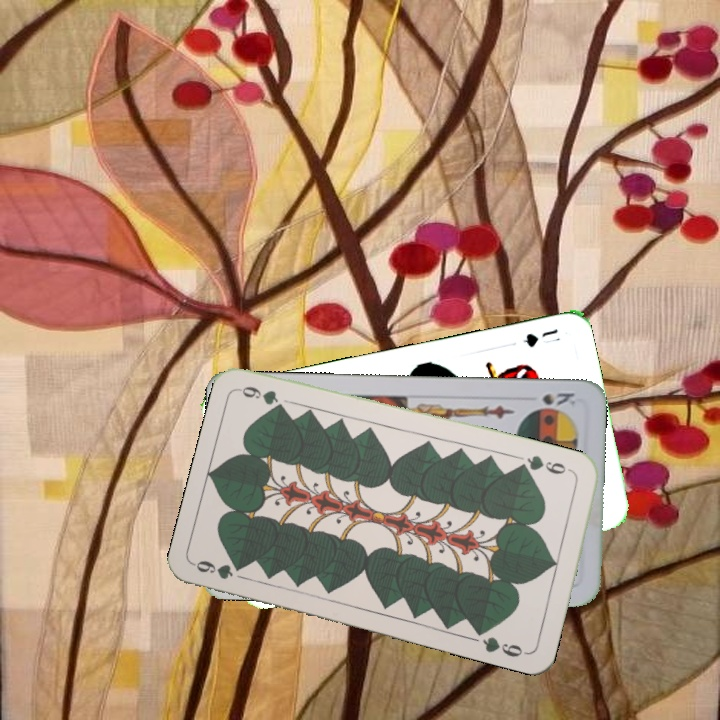G9: (517, 451, 577, 477), (191, 556, 247, 582)
GU: (520, 324, 563, 350)
SK: (538, 388, 578, 410)
